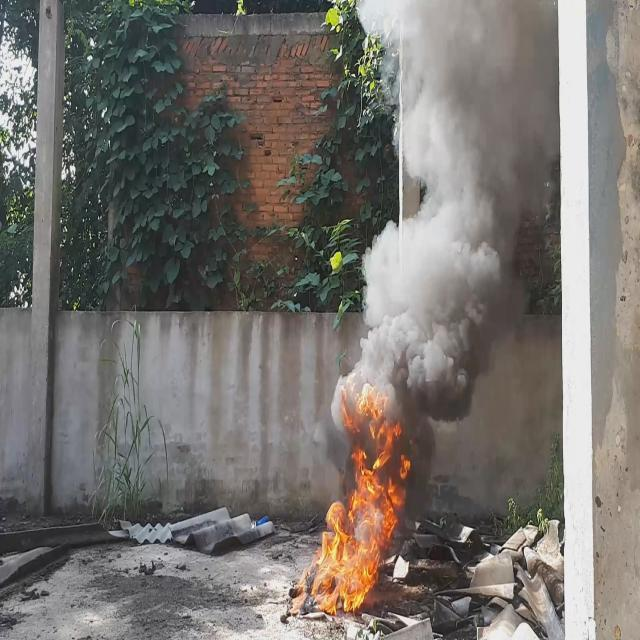Fire: (306, 378, 412, 610)
Smoke: (312, 0, 557, 482)
